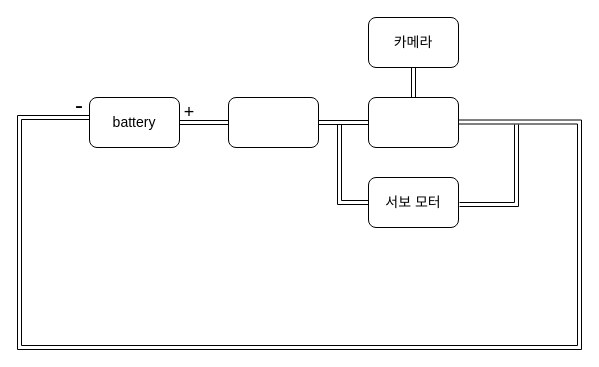
The diagram is 599 pixels wide and 367 high, and some of its shapes have lost their labels. Here are the shapes that lost their labels. From the top down, the box of each, then its label:
(228, 96, 318, 148): 컨버터
(368, 96, 458, 148): Jetson Nano
